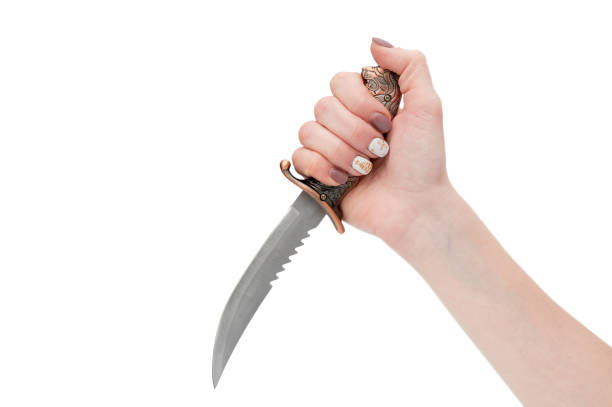knife: (210, 63, 403, 391)
